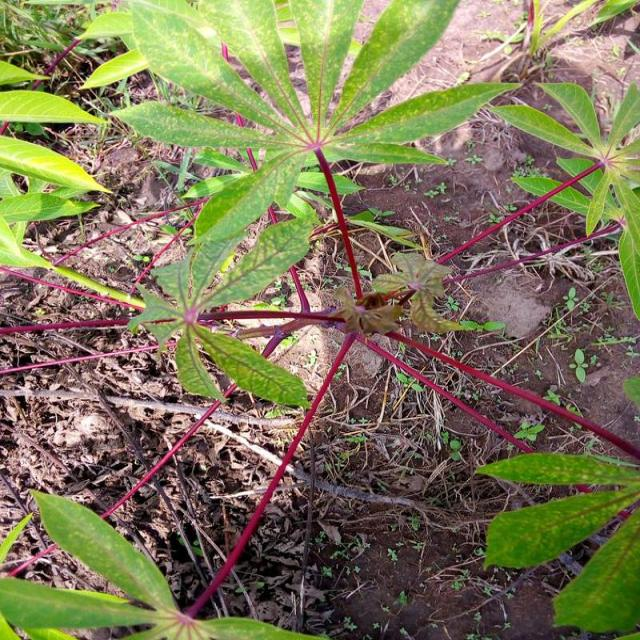cassava leaf: (27, 487, 179, 628)
